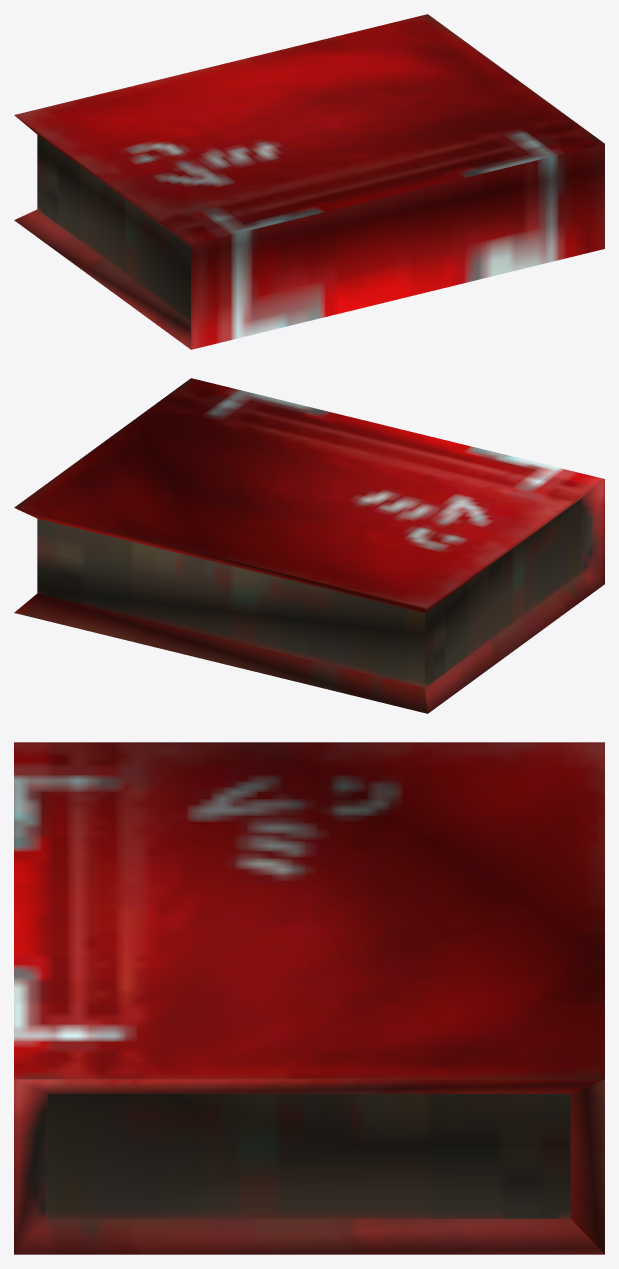
File: bookmedium07.obj
The picture shows the model from 3 angles, top to bottom: view 1: azimuth 30°, elevation 25°; view 2: azimuth 150°, elevation 25°; view 3: azimuth 270°, elevation 25°; orthographic projection. The views are drawn at different scales.
Parts seen in each view (by area): view 1: BOOKMEDIUM070; view 2: BOOKMEDIUM070; view 3: BOOKMEDIUM070.
Boxes of the visible parts, x1,y1,x2,y2 form: BOOKMEDIUM070: (14,14,604,349); BOOKMEDIUM070: (14,378,604,713); BOOKMEDIUM070: (14,742,604,1254).
Size of the model in its own units: 0.6038 by 0.1466 by 0.4477.
1 material, 1 textured.
